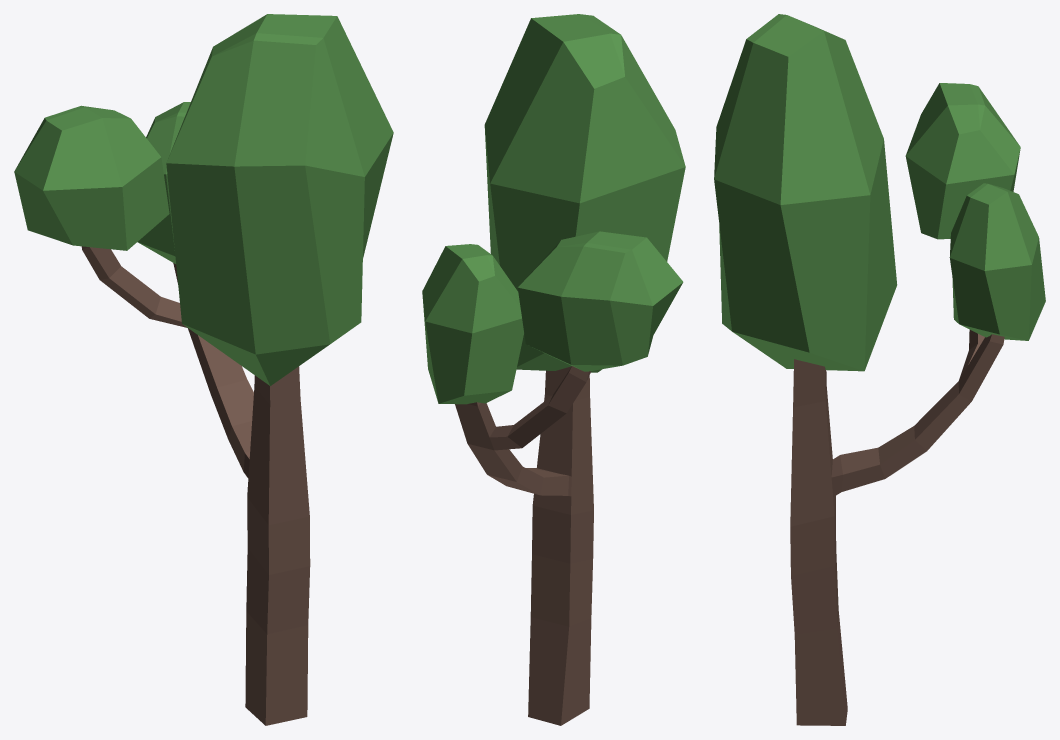
The model's file is arbol4.glb.
The picture shows the model from 3 angles, left to right: view 1: azimuth 30°, elevation 25°; view 2: azimuth 150°, elevation 25°; view 3: azimuth 270°, elevation 25°; orthographic projection. The views are drawn at different scales.
Visible parts, largest first — view 1: arbol4; view 2: arbol4; view 3: arbol4.
Boxes of the visible parts, x1,y1,x2,y2 form: arbol4: (14, 14, 393, 725); arbol4: (422, 14, 685, 725); arbol4: (714, 14, 1045, 725).
Size of what is drawn, in the model's own units: 3.62 by 8.71 by 3.82.
